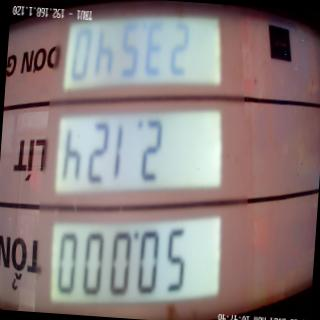screen: (37, 0, 252, 320)
